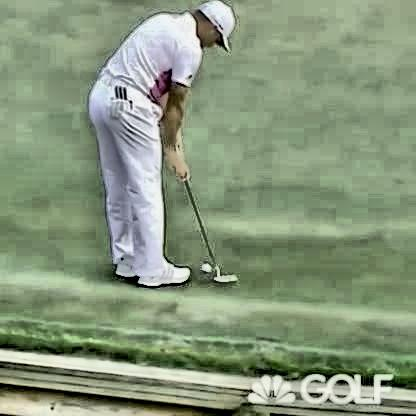golfball: (199, 256, 209, 269)
